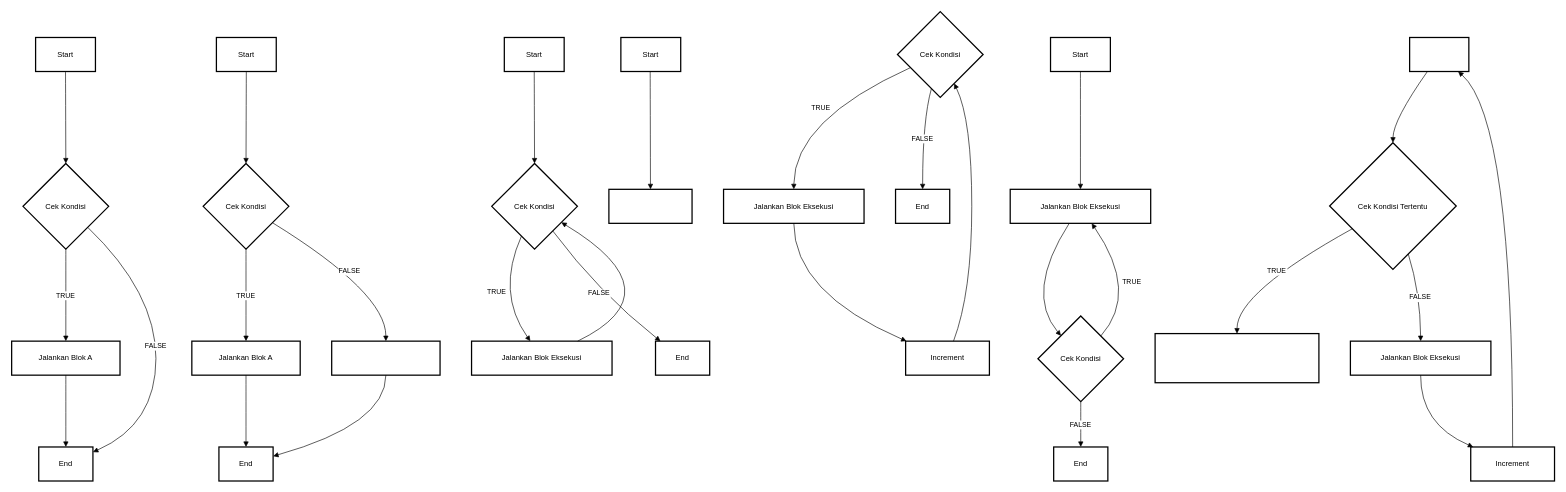
This 1566x492 diagram has some shape labels left out. Each missing label, with the centre of its shape:
"Inisialisasi" belongs at point (650, 206).
"Jalankan Blok B" belongs at point (385, 357).
"Loop" belongs at point (1439, 54).
"Skip Eksekusi Blok Bawahnya" belongs at point (1236, 358).
